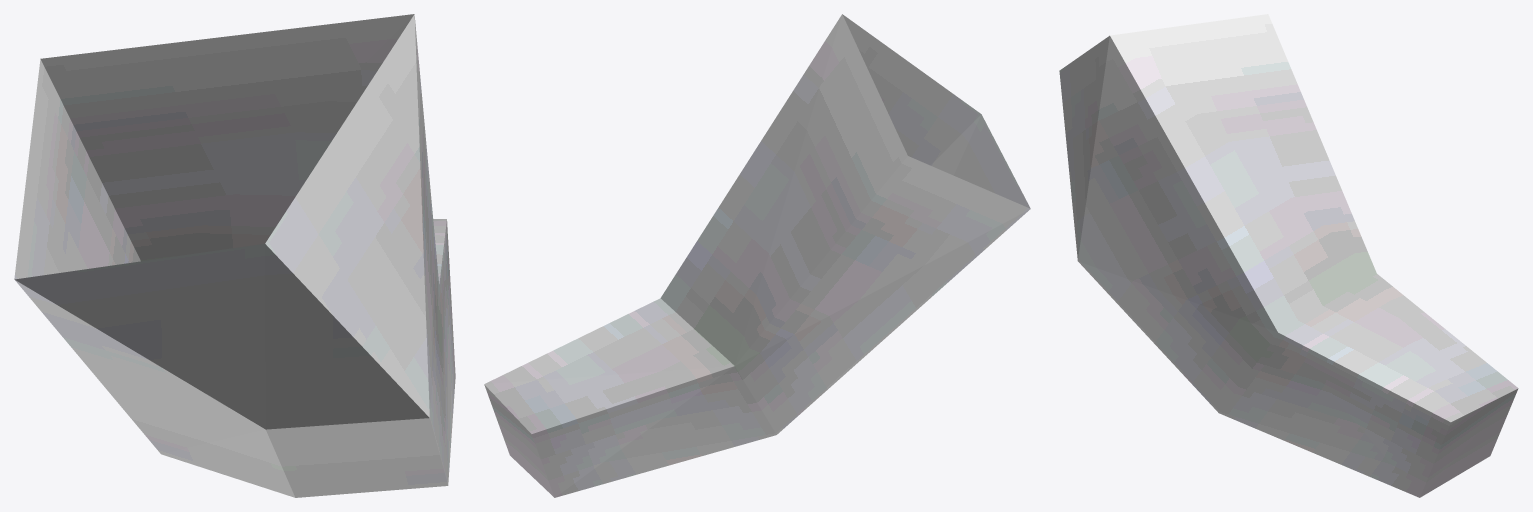
3 renders of one model, left to right at view 1: azimuth 30°, elevation 25°; view 2: azimuth 150°, elevation 25°; view 3: azimuth 270°, elevation 25°, orthographic. The views are drawn at different scales.
Visible parts, largest first — view 1: mesh_605CAF214DB5F06C; view 2: mesh_605CAF214DB5F06C; view 3: mesh_605CAF214DB5F06C.
Part boxes in pixels (bbox=[...]): mesh_605CAF214DB5F06C: bbox=[14, 14, 455, 497]; mesh_605CAF214DB5F06C: bbox=[484, 14, 1030, 497]; mesh_605CAF214DB5F06C: bbox=[1059, 14, 1518, 497].
Size of the model in its own units: 1.22 by 1.08 by 1.2.
